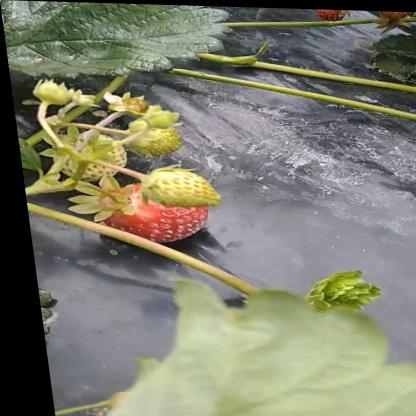ripe: (96, 183, 205, 243), (374, 9, 416, 22), (312, 7, 347, 21)
unripe: (48, 132, 128, 184), (139, 170, 223, 208), (127, 123, 182, 156)
